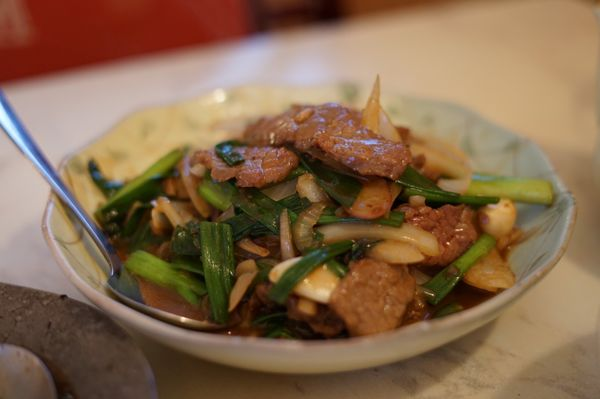soup: (0, 281, 159, 395)
sushi: (28, 49, 581, 380)
